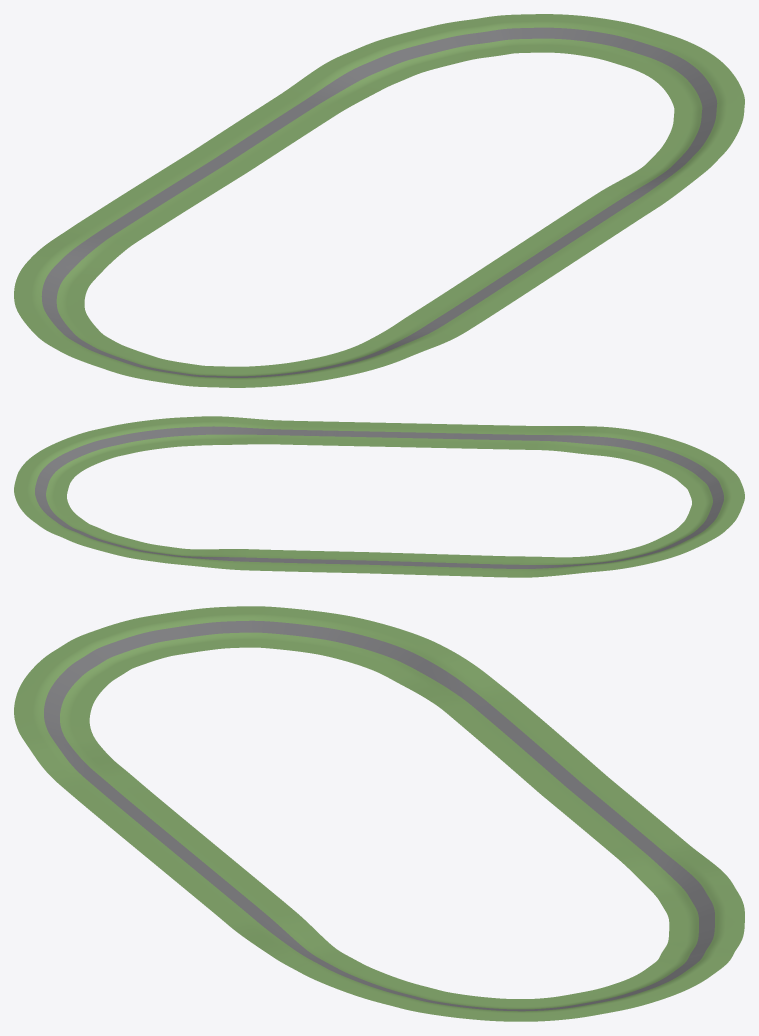
File: road_mesh.glb
The picture shows the model from 3 angles, top to bottom: view 1: azimuth 30°, elevation 25°; view 2: azimuth 150°, elevation 25°; view 3: azimuth 270°, elevation 25°; orthographic projection. The views are drawn at different scales.
Parts seen in each view (by area): view 1: road_11, road_10, road_12, road_01, road_13, road_00, road_09, road_07, road_06, road_08, road_02, road_05 (+2 smaller); view 2: road_08, road_09, road_04, road_05, road_07, road_06, road_10, road_03, road_00, road_13, road_01, road_11 (+2 smaller); view 3: road_02, road_03, road_01, road_04, road_12, road_00, road_13, road_05, road_06, road_07, road_11, road_08 (+2 smaller).
Boxes of the visible parts, x1=… form: road_11: x1=392, y1=14, x2=565, y2=70; road_10: x1=555, y1=14, x2=718, y2=81; road_12: x1=276, y1=36, x2=428, y2=115; road_01: x1=22, y1=209, x2=158, y2=285; road_13: x1=189, y1=97, x2=334, y2=171; road_00: x1=100, y1=153, x2=247, y2=227; road_09: x1=657, y1=59, x2=744, y2=139; road_07: x1=514, y1=191, x2=659, y2=261; road_06: x1=428, y1=247, x2=573, y2=318; road_08: x1=601, y1=134, x2=735, y2=205; road_02: x1=14, y1=268, x2=104, y2=342; road_05: x1=334, y1=304, x2=486, y2=368; road_08: x1=147, y1=416, x2=275, y2=448; road_09: x1=37, y1=420, x2=161, y2=471; road_04: x1=619, y1=431, x2=734, y2=488; road_05: x1=510, y1=425, x2=640, y2=458; road_07: x1=272, y1=420, x2=394, y2=446; road_06: x1=391, y1=423, x2=513, y2=449; road_10: x1=14, y1=453, x2=80, y2=513; road_03: x1=677, y1=473, x2=744, y2=532; road_00: x1=366, y1=552, x2=488, y2=576; road_13: x1=247, y1=549, x2=369, y2=573; road_01: x1=485, y1=555, x2=613, y2=577; road_11: x1=24, y1=510, x2=143, y2=555; road_02: x1=251, y1=606, x2=432, y2=672; road_03: x1=70, y1=606, x2=253, y2=669; road_01: x1=379, y1=641, x2=532, y2=728; road_04: x1=14, y1=641, x2=129, y2=727; road_12: x1=616, y1=841, x2=744, y2=921; road_00: x1=465, y1=712, x2=607, y2=792; road_13: x1=539, y1=777, x2=684, y2=857; road_05: x1=15, y1=719, x2=145, y2=799; road_06: x1=77, y1=787, x2=222, y2=863; road_07: x1=155, y1=851, x2=299, y2=927; road_11: x1=635, y1=910, x2=744, y2=986; road_08: x1=232, y1=916, x2=386, y2=988.
Size of the model in its own units: 990 by 16.17 by 735.
